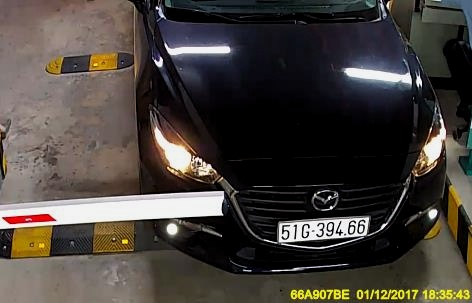plate: (271, 211, 371, 243)
